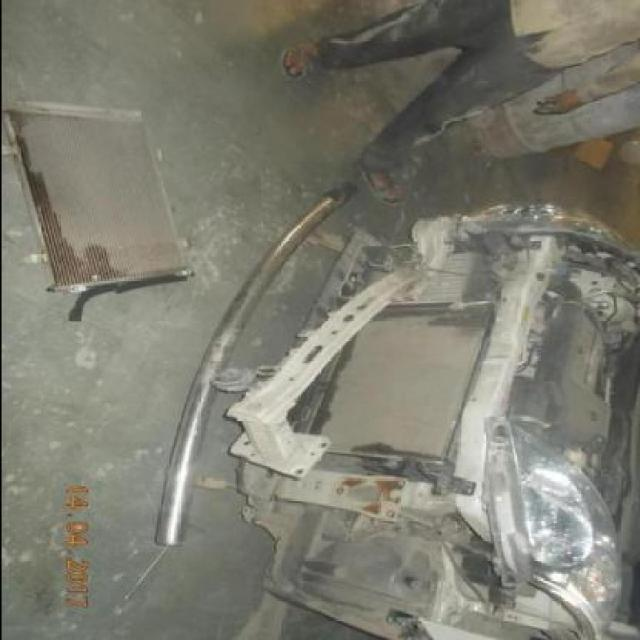damage: (245, 209, 557, 633)
